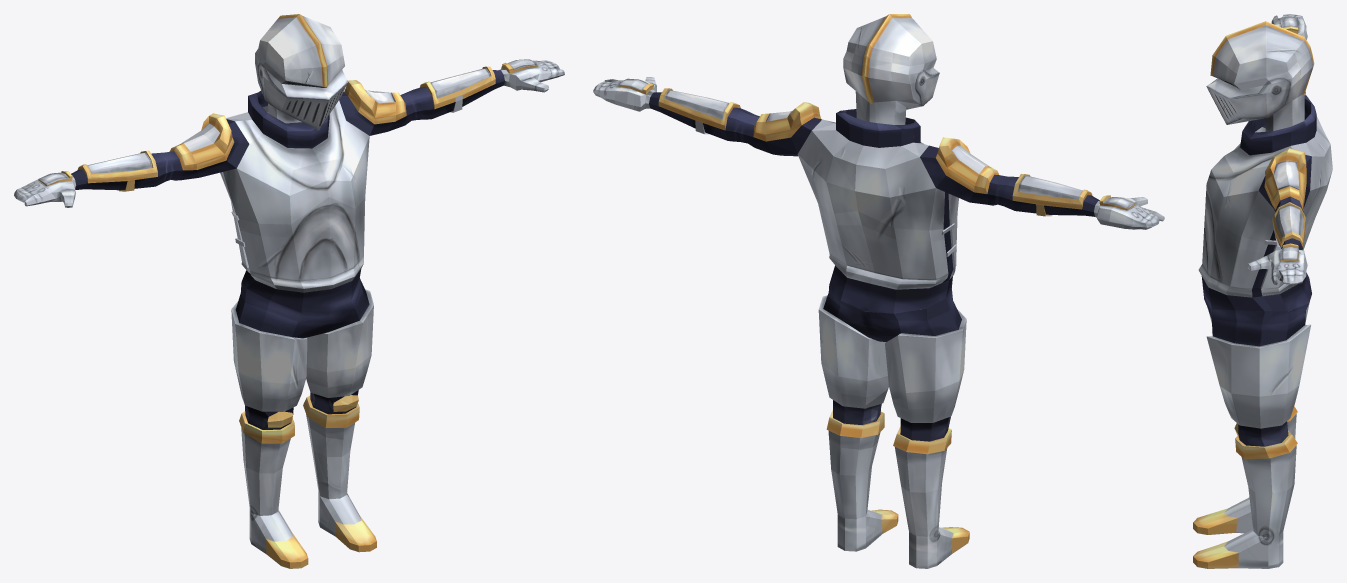
Rendered from knight.fbx.
The picture shows the model from 3 angles, left to right: view 1: azimuth 30°, elevation 25°; view 2: azimuth 150°, elevation 25°; view 3: azimuth 270°, elevation 25°; orthographic projection. The views are drawn at different scales.
Visible parts, largest first — view 1: Knight; view 2: Knight; view 3: Knight.
Boxes of the visible parts, left/top/right/bottom form: Knight: left=14, top=14, right=564, bottom=568; Knight: left=593, top=14, right=1164, bottom=568; Knight: left=1193, top=14, right=1332, bottom=568.
Size of the model in its own units: 222 by 203 by 49.1.
